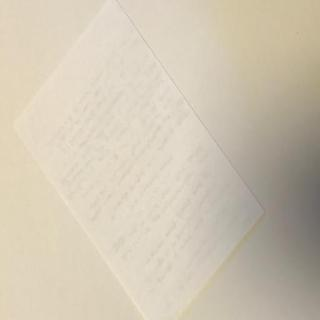PAPER: (13, 0, 264, 319)
